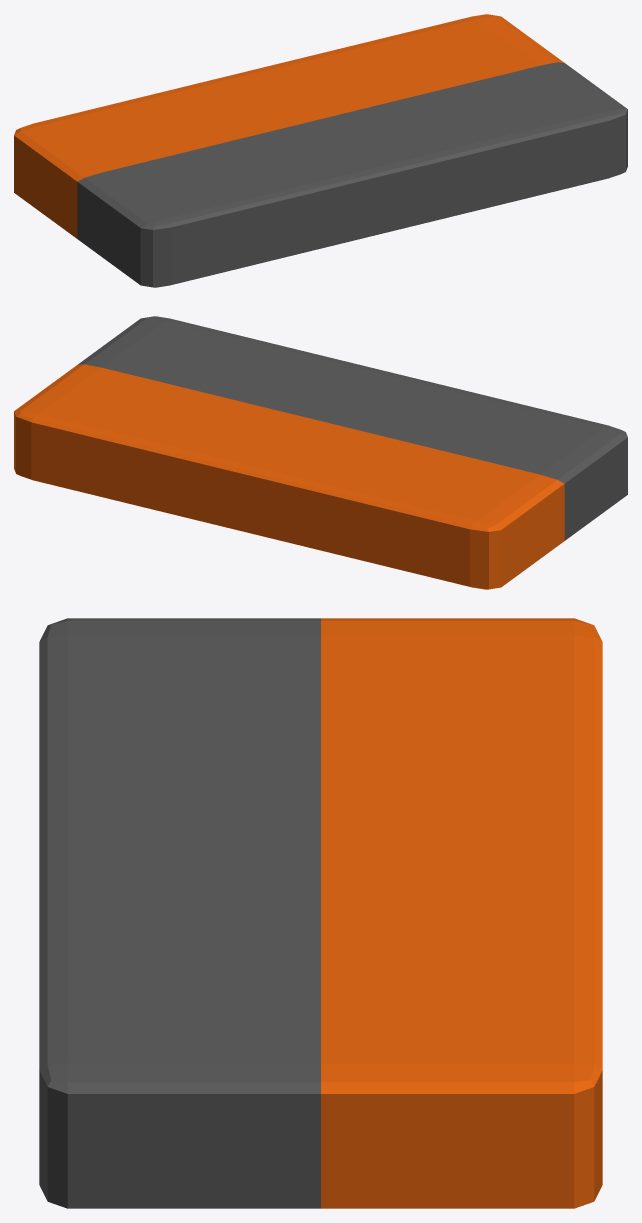
Rendered from ship3_003.gltf.
3 views of the same model, one above another, from view 1: azimuth 30°, elevation 25°; view 2: azimuth 150°, elevation 25°; view 3: azimuth 270°, elevation 25° (orthographic). The views are drawn at different scales.
Visible parts, largest first — view 1: SimpleBlock; view 2: SimpleBlock; view 3: SimpleBlock.
Boxes of the visible parts, <box> form: SimpleBlock: <box>14,14,627,287</box>; SimpleBlock: <box>14,316,627,589</box>; SimpleBlock: <box>39,618,602,1208</box>.
Size of the model in its own units: 14.99 by 1.87 by 7.51.
